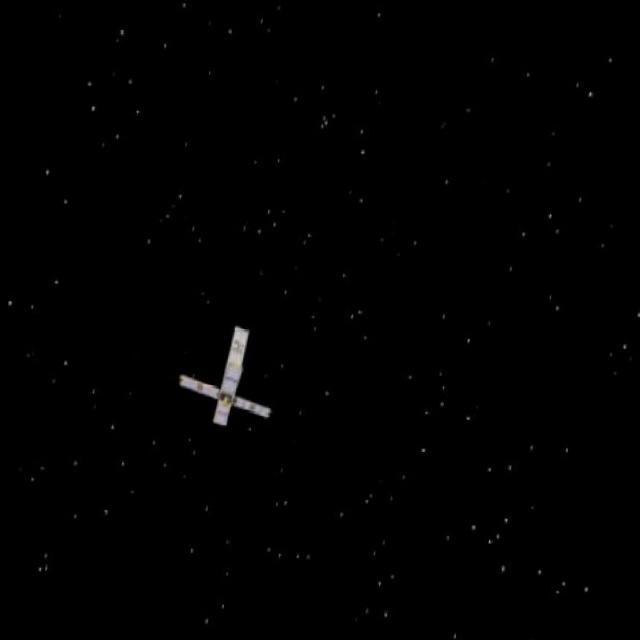medium_debris: (167, 312, 289, 441)
